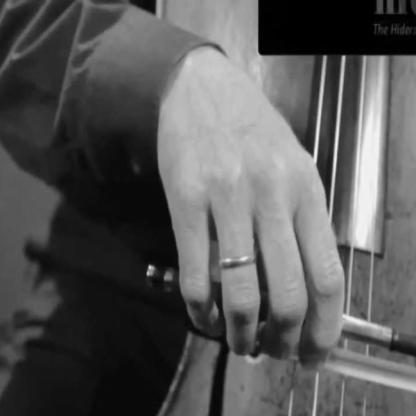good: (149, 45, 359, 388)
